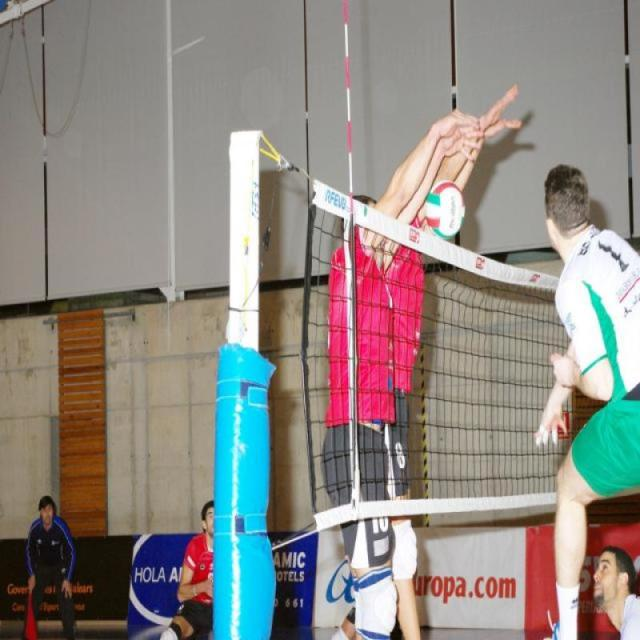volleyball: (424, 176, 466, 240)
